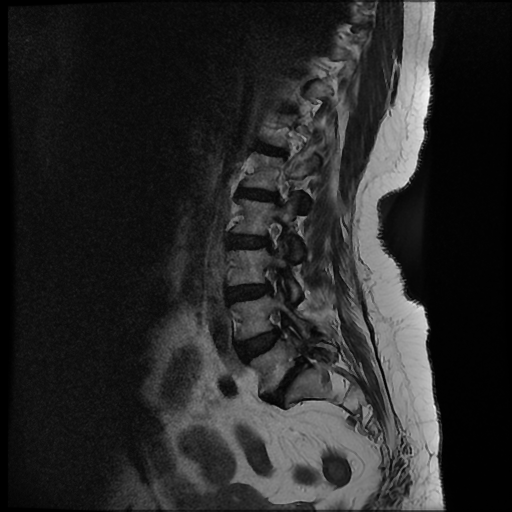RFS0: (256, 212, 292, 257)
RFS1: (252, 254, 289, 301)
RFS2: (257, 305, 298, 347)
